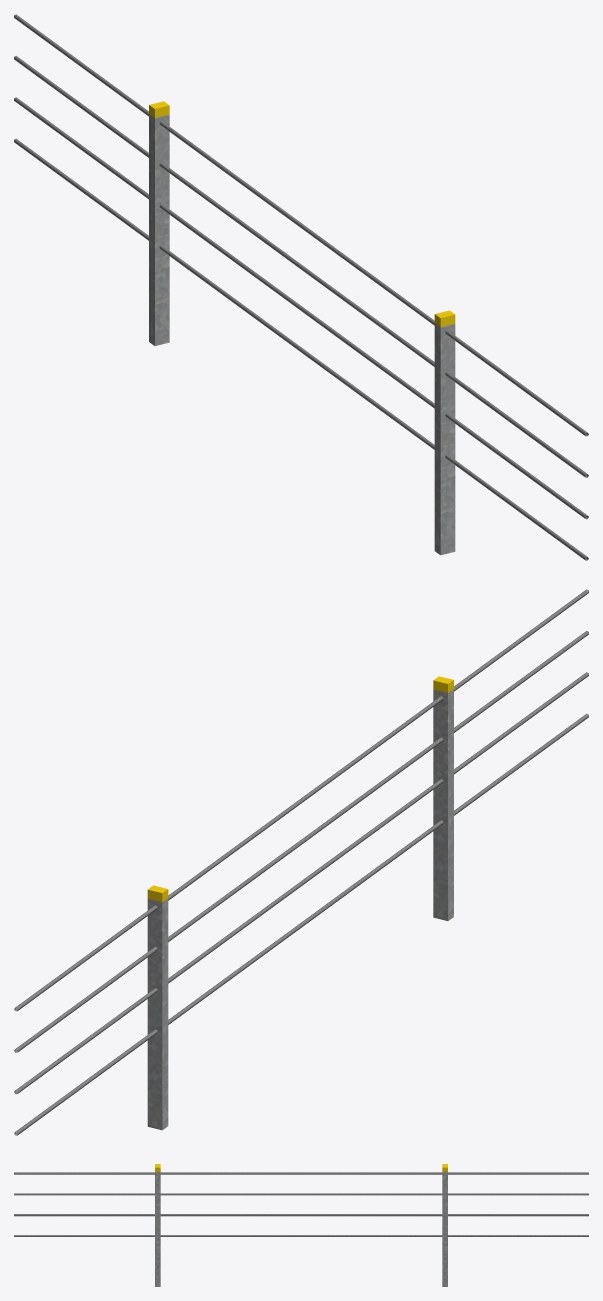
Rendered from GSDCableBarrier.fbx.
3 views of the same model, one above another, from view 1: azimuth 30°, elevation 25°; view 2: azimuth 150°, elevation 25°; view 3: azimuth 270°, elevation 25° (orthographic). The views are drawn at different scales.
Parts seen in each view (by area): view 1: GSDCableBarrier; view 2: GSDCableBarrier; view 3: GSDCableBarrier.
Boxes of the visible parts, x1,y1,x2,y2 form: GSDCableBarrier: (14, 14, 588, 560); GSDCableBarrier: (14, 589, 588, 1135); GSDCableBarrier: (14, 1164, 588, 1286).
Size of the model in its own units: 0.075 by 1.15 by 5.
